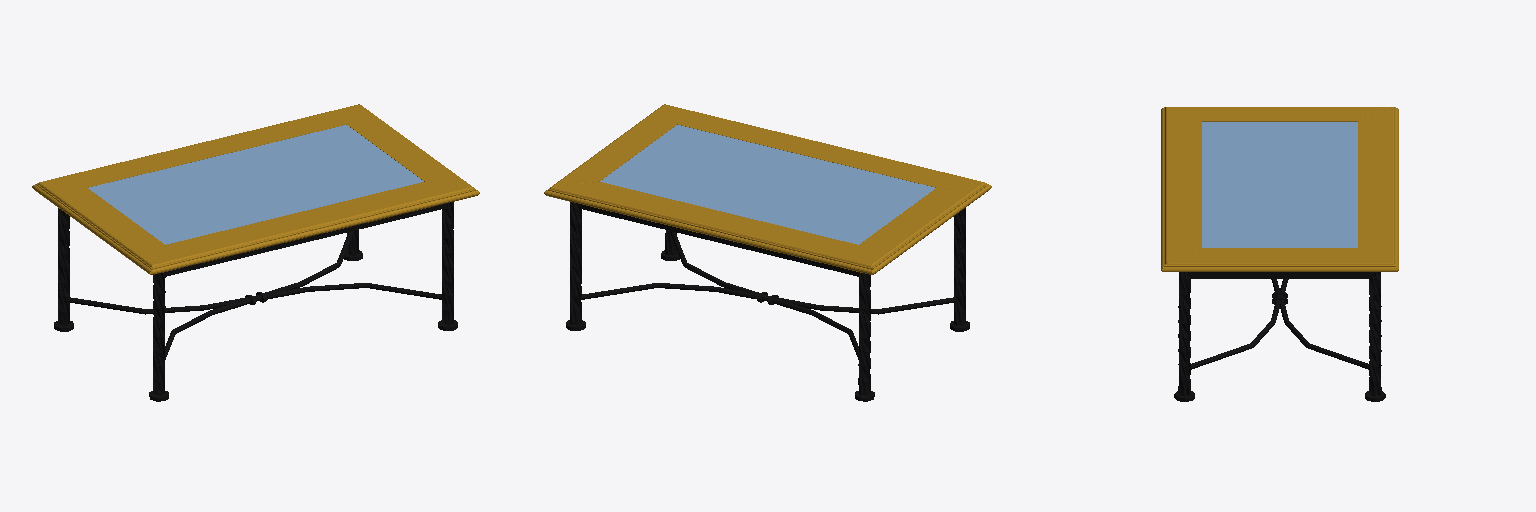
File: table_wood_and_iron.obj
The picture shows the model from 3 angles: view 1: azimuth 30°, elevation 25°; view 2: azimuth 150°, elevation 25°; view 3: azimuth 270°, elevation 25°; orthographic projection.
Visible parts, largest first — view 1: woodenframe_Plane.001, glass_Cube, ironbase_Cylinder.002; view 2: woodenframe_Plane.001, glass_Cube, ironbase_Cylinder.002; view 3: glass_Cube, woodenframe_Plane.001, ironbase_Cylinder.002.
Boxes of the visible parts, x1,y1,x2,y2 form: woodenframe_Plane.001: [32, 104, 479, 274]; glass_Cube: [88, 125, 423, 244]; ironbase_Cylinder.002: [54, 202, 457, 401]; woodenframe_Plane.001: [544, 104, 991, 274]; glass_Cube: [600, 125, 935, 244]; ironbase_Cylinder.002: [566, 202, 969, 401]; glass_Cube: [1202, 122, 1357, 247]; woodenframe_Plane.001: [1161, 107, 1398, 271]; ironbase_Cylinder.002: [1174, 272, 1385, 401].
Bounding box in the file's own units: 1.94 × 0.8024 × 1.21.